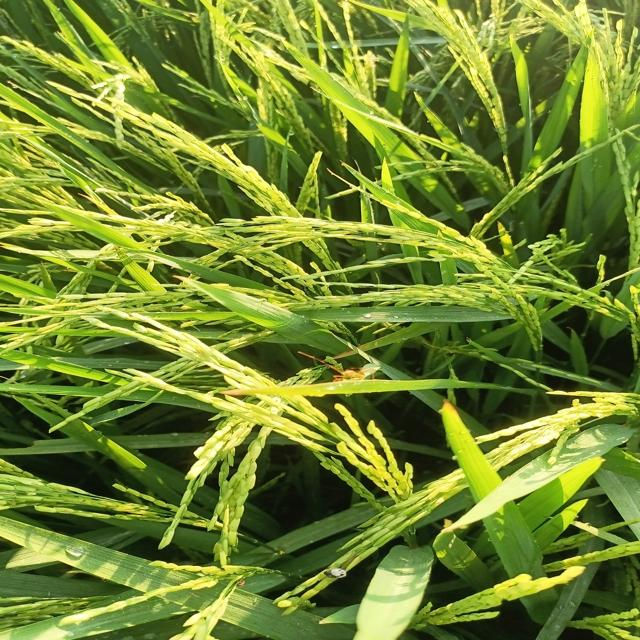green leaf hopper: (332, 366, 384, 384)
